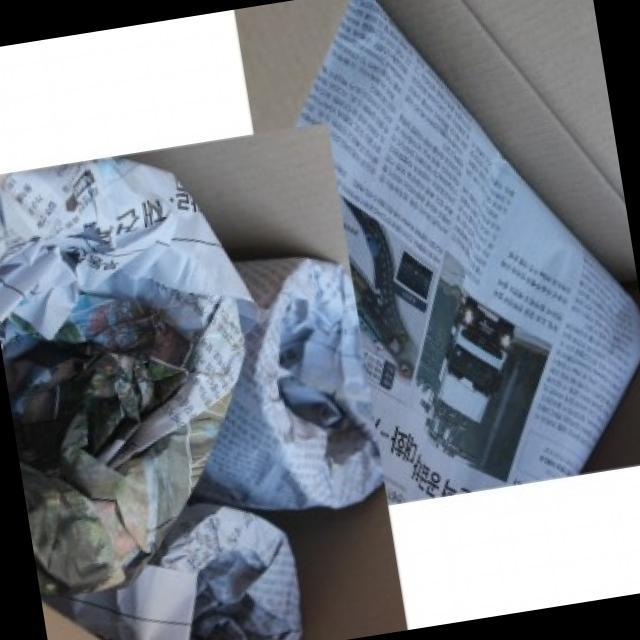reuseable_paper: (0, 140, 390, 640), (315, 0, 640, 496)
